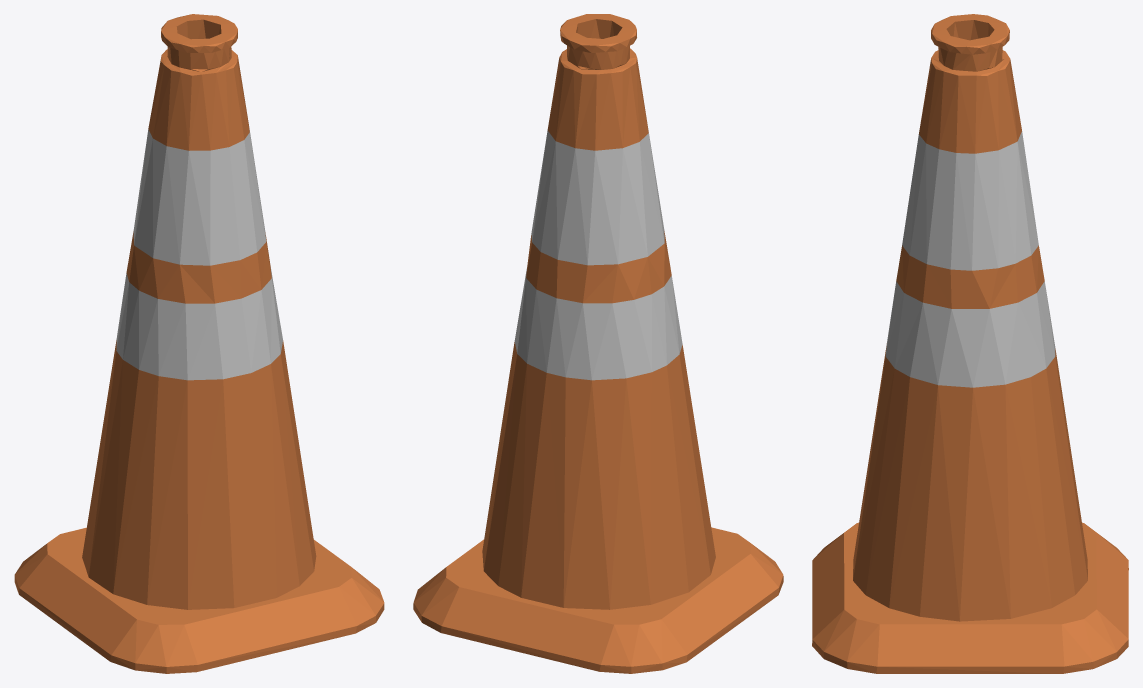
File: cone_big.dae
3 views of the same model, side by side, from view 1: azimuth 30°, elevation 25°; view 2: azimuth 150°, elevation 25°; view 3: azimuth 270°, elevation 25° (orthographic).
Parts seen in each view (by area): view 1: _8_Inch; view 2: _8_Inch; view 3: _8_Inch.
Boxes of the visible parts, left/top/right/bottom form: _8_Inch: left=14, top=14, right=384, bottom=673; _8_Inch: left=413, top=14, right=783, bottom=673; _8_Inch: left=812, top=14, right=1128, bottom=673.
Bounding box in the file's own units: 0.2613 × 0.2613 × 0.5255.
